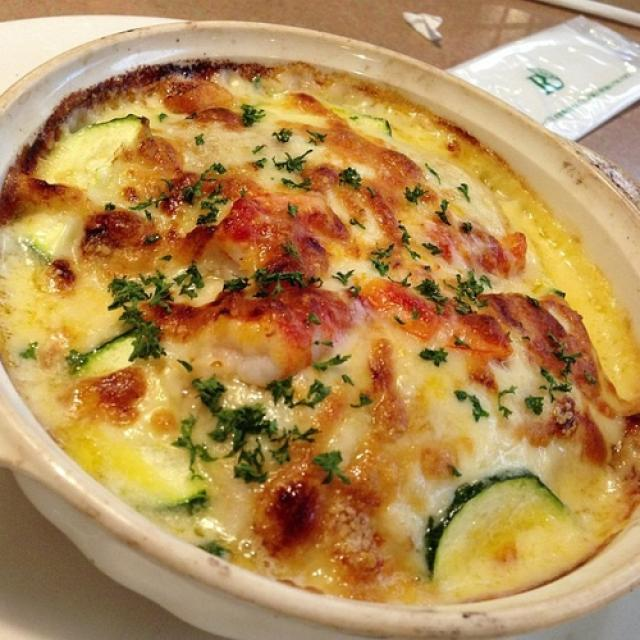米饭主食: (13, 35, 609, 618)
